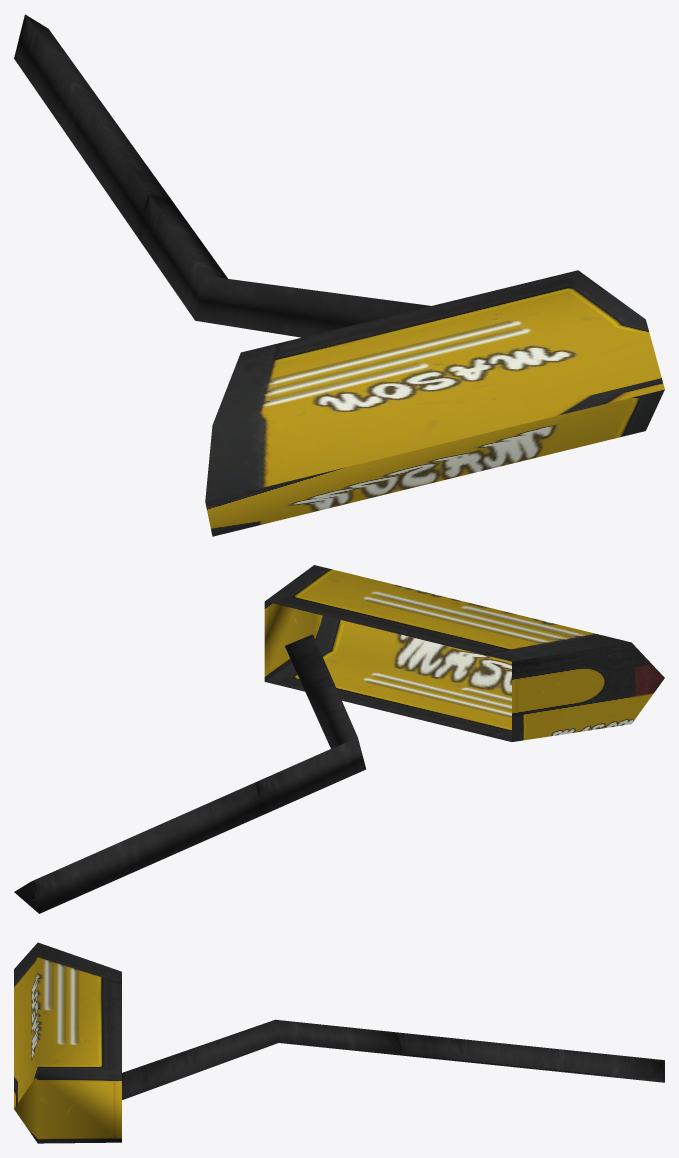
Rendered from nt_2020_mailbox_mason_LOD2.obj.
3 views of the same model, one above another, from view 1: azimuth 30°, elevation 25°; view 2: azimuth 150°, elevation 25°; view 3: azimuth 270°, elevation 25° (orthographic). The views are drawn at different scales.
Parts seen in each view (by area): view 1: mtl_nt_2020_mailbox_mason; view 2: mtl_nt_2020_mailbox_mason; view 3: mtl_nt_2020_mailbox_mason.
Boxes of the visible parts, left/top/right/bottom form: mtl_nt_2020_mailbox_mason: left=14, top=14, right=664, bottom=536; mtl_nt_2020_mailbox_mason: left=14, top=565, right=664, bottom=913; mtl_nt_2020_mailbox_mason: left=14, top=942, right=664, bottom=1143.
Bounding box in the file's own units: 91.44 × 21.2 × 180.
